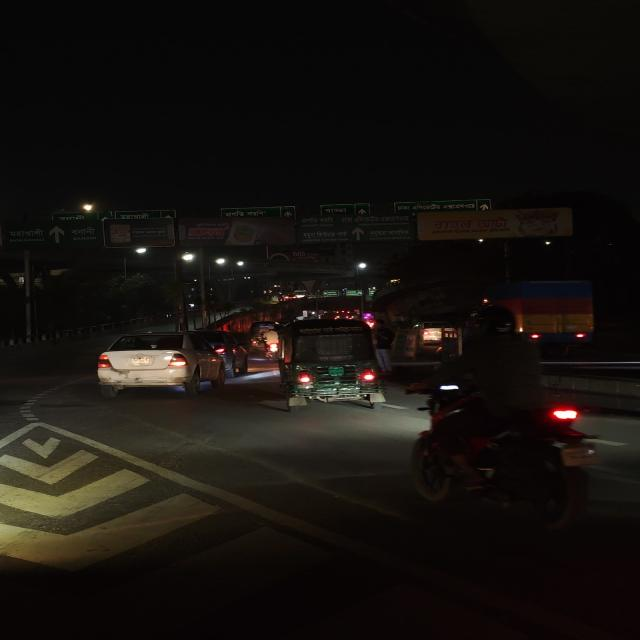car: (87, 330, 227, 400)
cng: (270, 317, 389, 413)
motorcycle: (397, 328, 614, 531)
truck: (474, 276, 604, 348)
